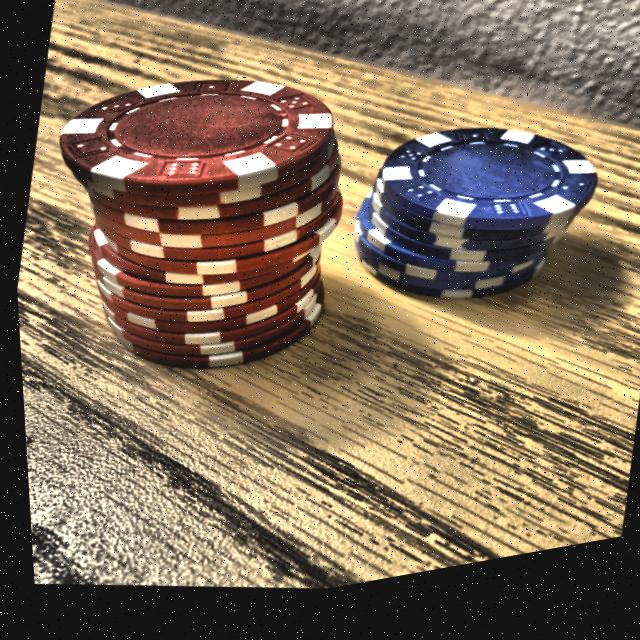Chip: (3, 6, 408, 431), (319, 85, 615, 379)
